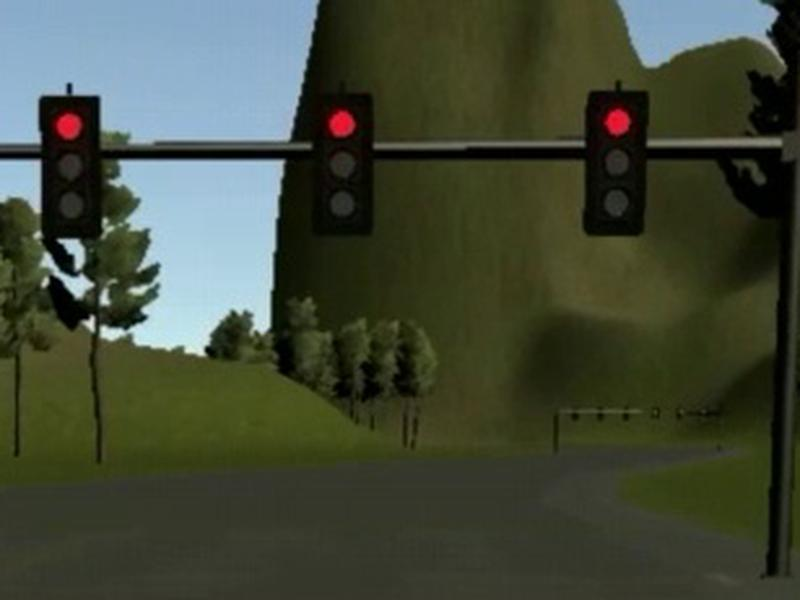Red: (41, 98, 98, 237), (313, 95, 366, 234), (592, 94, 640, 237)
